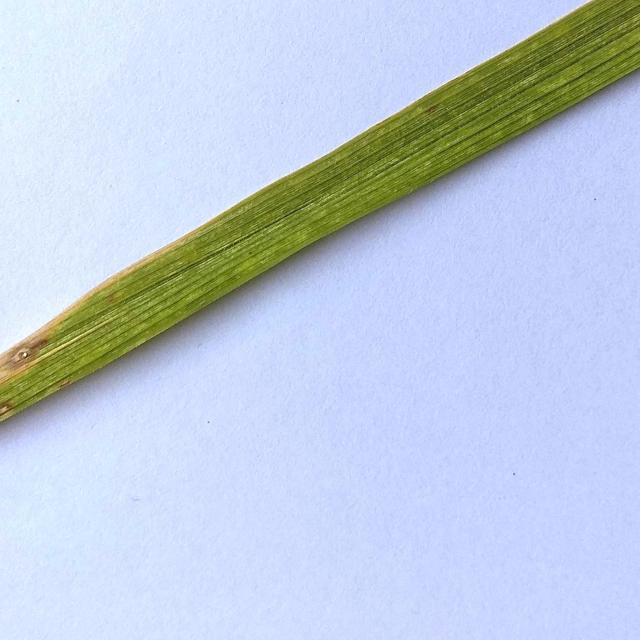Leaf blast: (0, 0, 640, 432)
